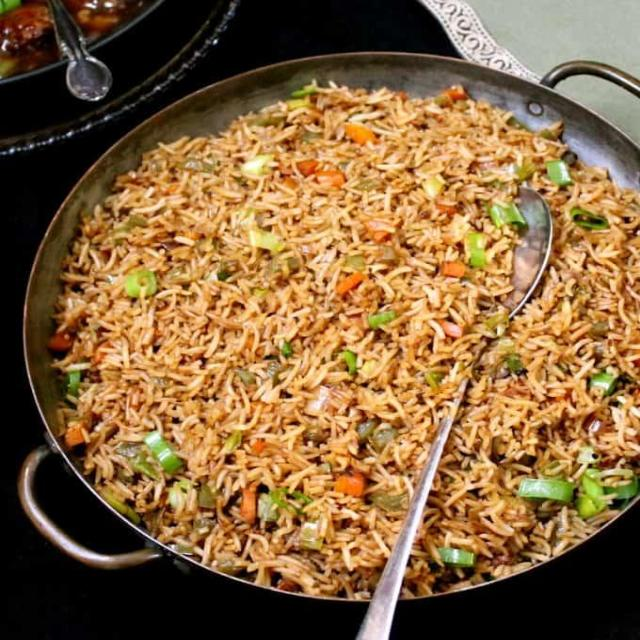Nasi Goreng: (44, 76, 639, 600)
